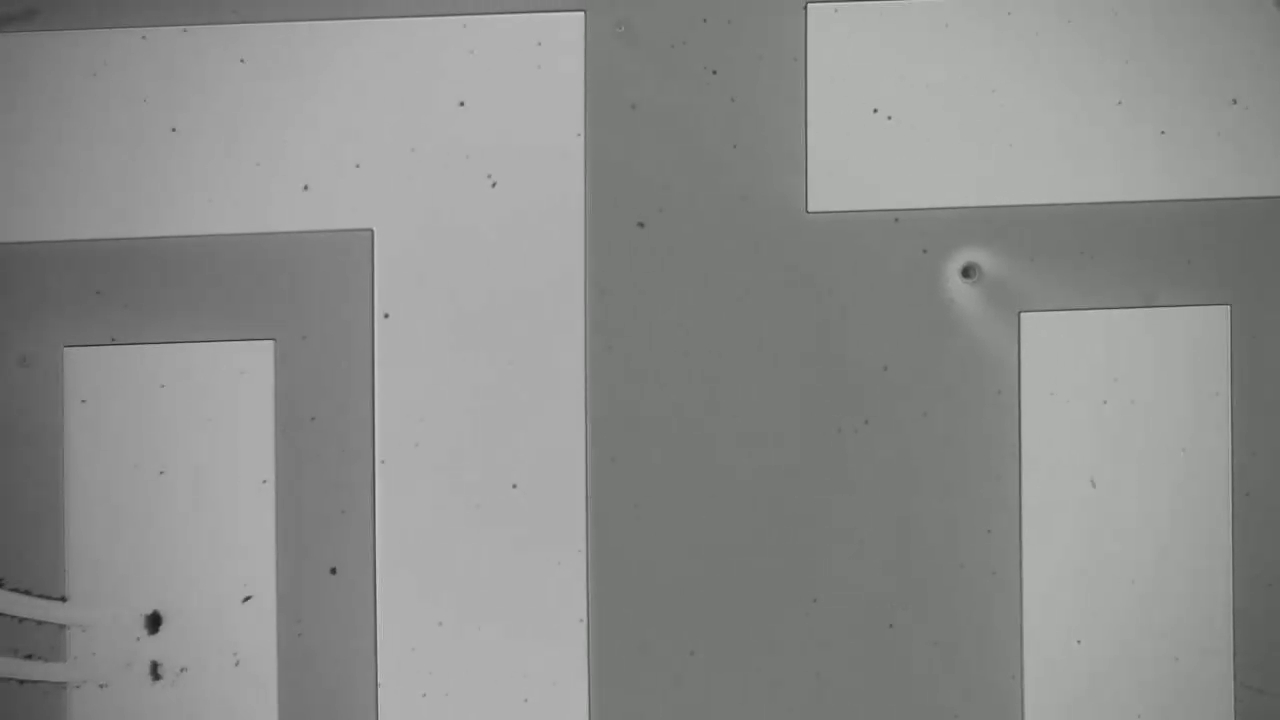Short_circuit: (1, 553, 95, 707)
